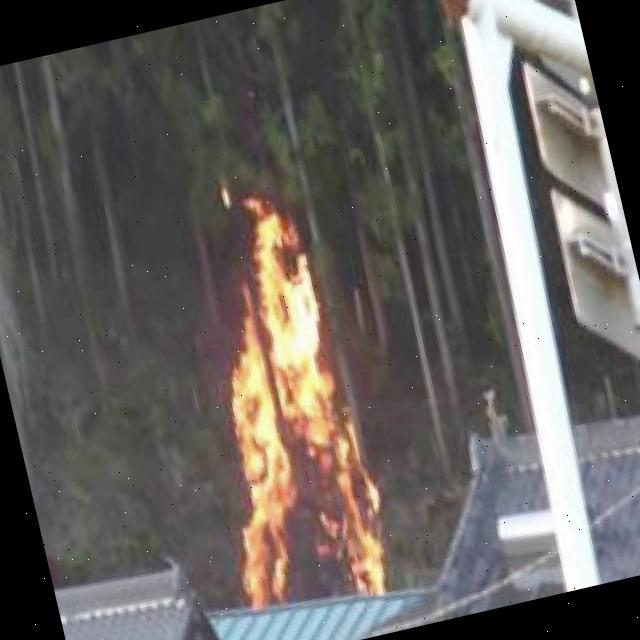fire: (168, 200, 404, 630)
